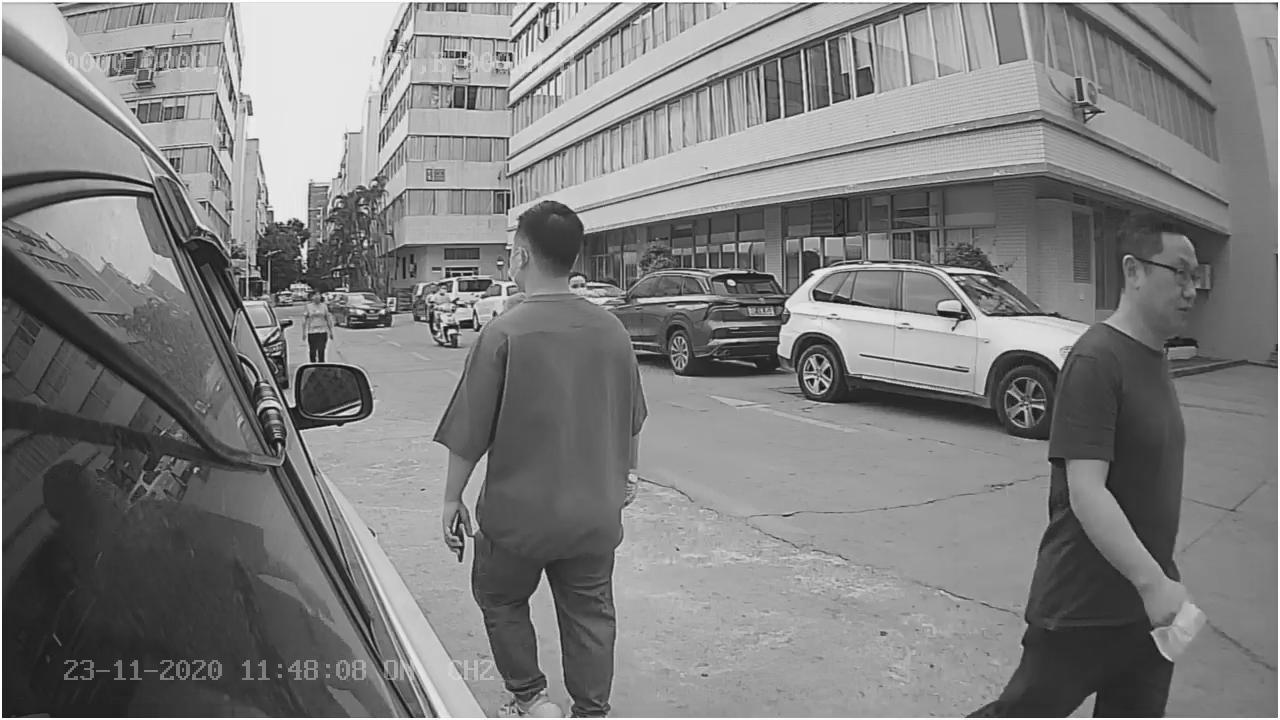person: (1025, 204, 1214, 649), (435, 187, 658, 558)
